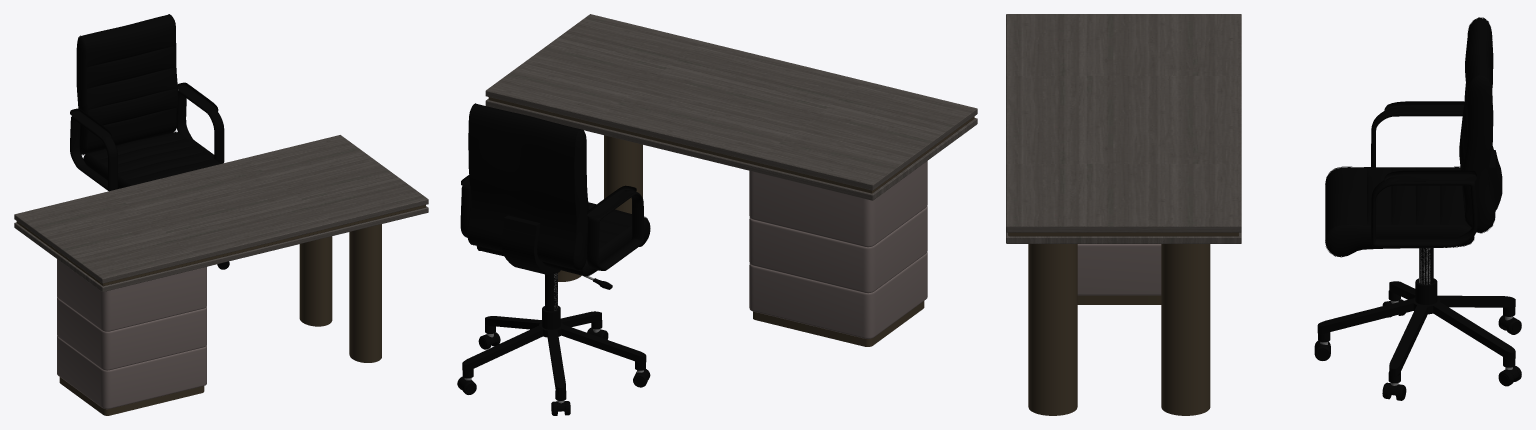
3 views of the same model, side by side, from view 1: azimuth 30°, elevation 25°; view 2: azimuth 150°, elevation 25°; view 3: azimuth 270°, elevation 25° (orthographic). The views are drawn at different scales.
Parts seen in each view (by area): view 1: bday2-130, Dossier, Assise, Accoudoirs; view 2: bday2-130, Dossier, Pietement, Verin, Accoudoirs, Assise, Roulettes; view 3: bday2-130, Assise, Dossier, Pietement, Accoudoirs, Roulettes, Verin.
Boxes of the visible parts, x1,y1,x2,y2 form: bday2-130: [14, 135, 428, 415]; Dossier: [76, 14, 178, 155]; Assise: [83, 131, 220, 188]; Accoudoirs: [70, 82, 224, 191]; bday2-130: [485, 14, 977, 346]; Dossier: [467, 103, 588, 270]; Pietement: [462, 311, 646, 394]; Verin: [501, 215, 612, 329]; Accoudoirs: [460, 175, 643, 270]; Assise: [476, 202, 650, 276]; Roulettes: [457, 320, 650, 415]; bday2-130: [1006, 14, 1241, 415]; Assise: [1325, 166, 1474, 257]; Dossier: [1459, 17, 1495, 233]; Pietement: [1317, 281, 1515, 376]; Accoudoirs: [1371, 101, 1478, 247]; Roulettes: [1314, 290, 1521, 400]; Verin: [1415, 150, 1502, 304].
Bounding box in the file's own units: 1.6 × 1.09 × 1.64.
9 materials, 2 textured.
